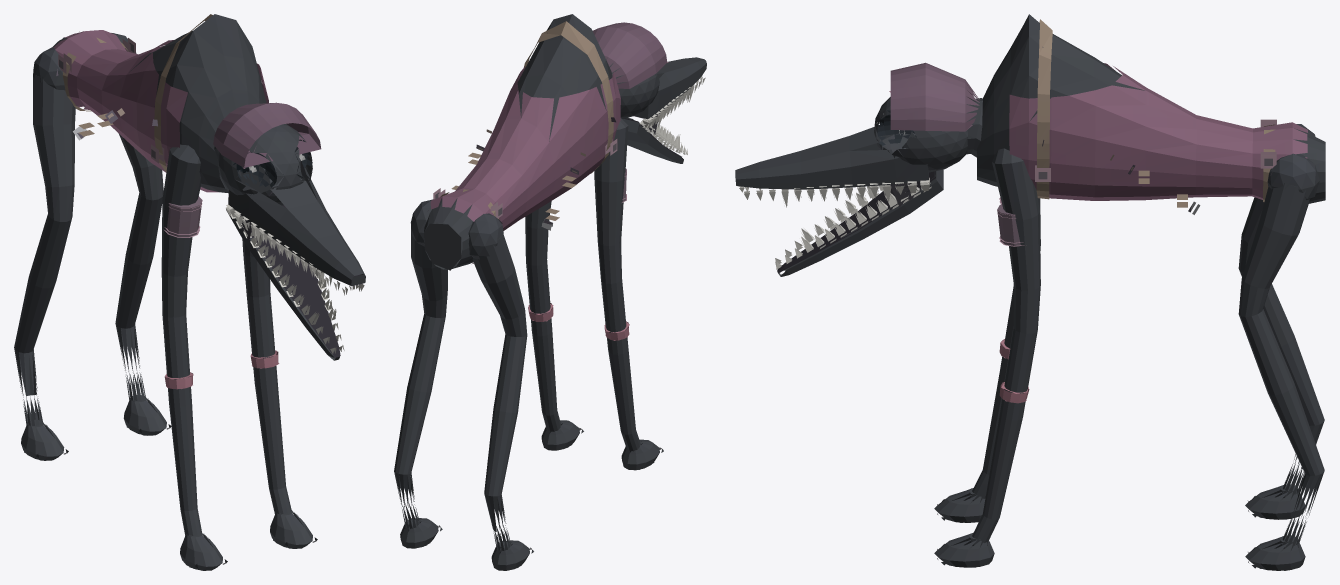
File: LongmawAssassin.glb
3 views of the same model, side by side, from view 1: azimuth 30°, elevation 25°; view 2: azimuth 150°, elevation 25°; view 3: azimuth 270°, elevation 25° (orthographic). The views are drawn at different scales.
Visible parts, largest first — view 1: Body, Head, LegR, ArmR, ArmL, LegL; view 2: Body, LegR, Head, ArmR, LegL, ArmL; view 3: Body, Head, LegL, ArmL, LegR, ArmR.
Part boxes in pixels (left/top/right/bottom): Body: left=52, top=14, right=268, bottom=193; Head: left=213, top=102, right=365, bottom=360; LegR: left=14, top=47, right=75, bottom=460; ArmR: left=161, top=144, right=227, bottom=570; ArmL: left=242, top=239, right=317, bottom=548; LegL: left=111, top=33, right=171, bottom=435; Body: left=424, top=14, right=620, bottom=270; LegR: left=468, top=213, right=533, bottom=570; Head: left=593, top=22, right=706, bottom=163; ArmR: left=594, top=118, right=663, bottom=470; LegL: left=394, top=199, right=447, bottom=548; ArmL: left=525, top=201, right=583, bottom=450; Body: left=977, top=14, right=1325, bottom=214; Head: left=735, top=62, right=982, bottom=276; LegL: left=1238, top=153, right=1324, bottom=570; ArmL: left=934, top=148, right=1040, bottom=567; LegR: left=1238, top=124, right=1324, bottom=519; ArmR: left=934, top=197, right=1040, bottom=522.
Bounding box in the file's own units: 1.9 × 6.89 × 7.03.
